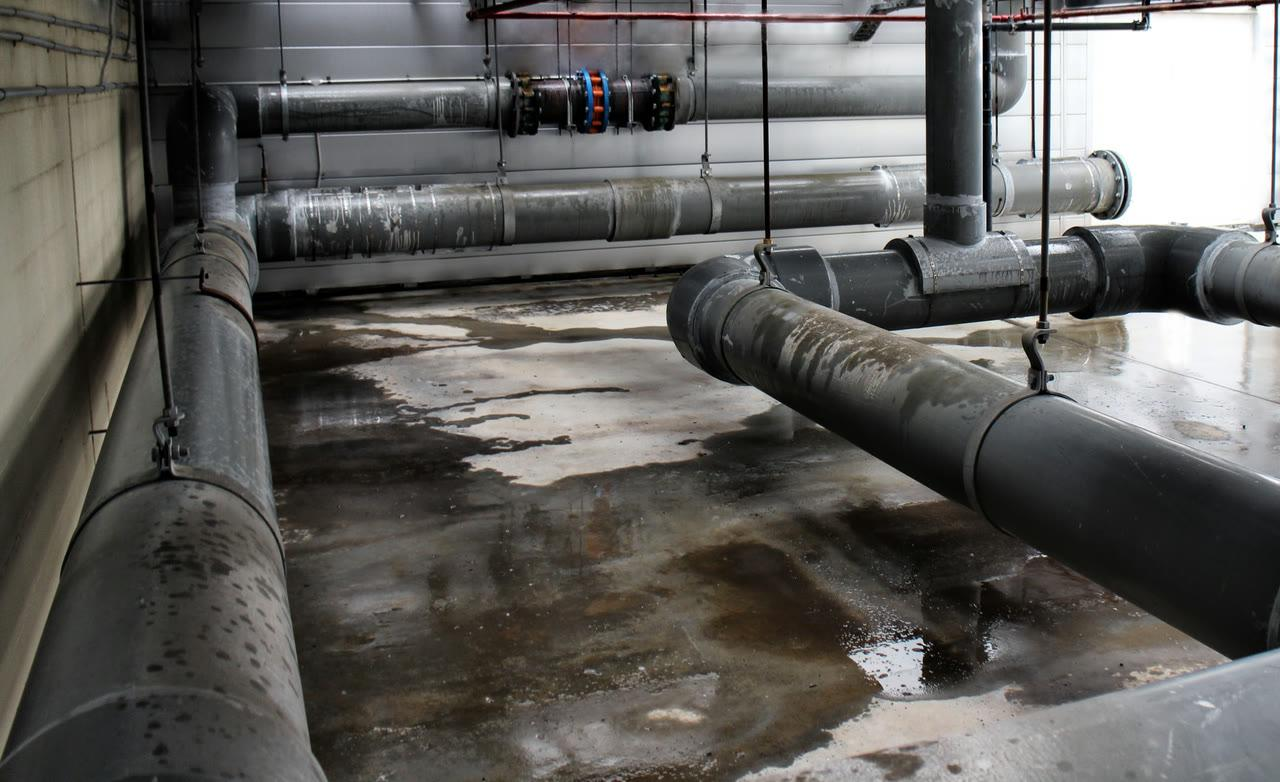water accumulation: (244, 276, 1280, 782)
